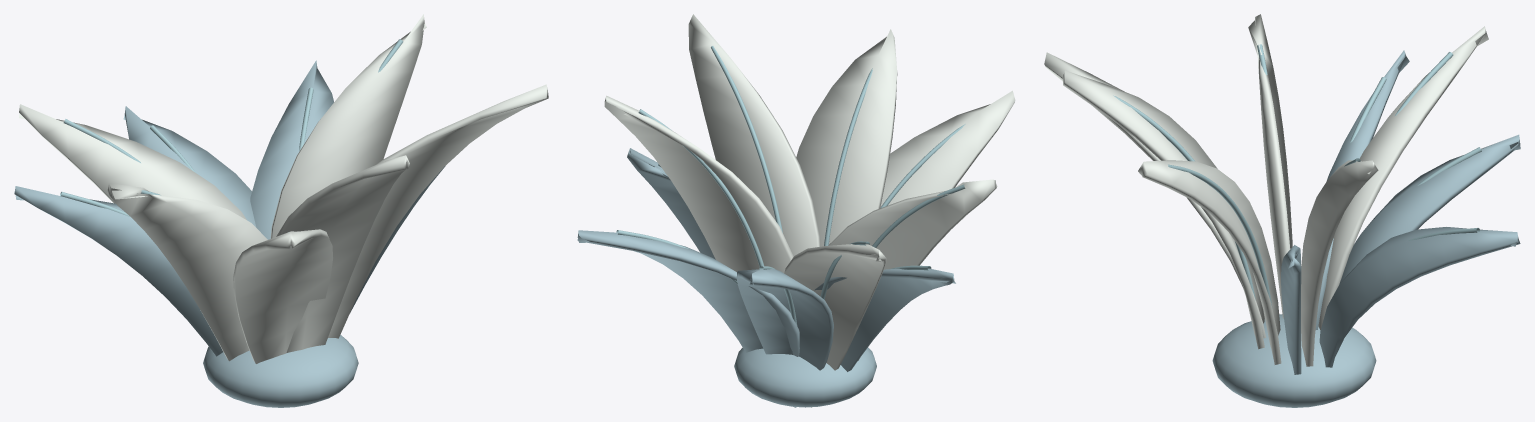
File: bio_mist_leaf_11_near.glb
The picture shows the model from 3 angles, left to right: view 1: azimuth 30°, elevation 25°; view 2: azimuth 150°, elevation 25°; view 3: azimuth 270°, elevation 25°; orthographic projection. The views are drawn at different scales.
Visible parts, largest first — view 1: Cupped condensate leaf.004, Cupped condensate leaf.008, Cupped condensate leaf.007, Cupped condensate leaf.002, Cupped condensate leaf.005, Cupped condensate leaf.001, Root rosette, Cupped condensate leaf.009, Cupped condensate leaf.003, Cupped condensate leaf.006; view 2: Cupped condensate leaf.002, Cupped condensate leaf.005, Cupped condensate leaf.008, Cupped condensate leaf.007, Cupped condensate leaf.004, Cupped condensate leaf.003, Cupped condensate leaf.001, Root rosette, Cupped condensate leaf.006, Cupped condensate leaf.009, Cupped condensate leaf, Central leaf rib.005 (+4 smaller); view 3: Root rosette, Cupped condensate leaf.003, Cupped condensate leaf.001, Cupped condensate leaf.005, Cupped condensate leaf.002, Cupped condensate leaf.006, Cupped condensate leaf.008, Cupped condensate leaf.004, Cupped condensate leaf.009, Cupped condensate leaf, Cupped condensate leaf.007, Central leaf rib.005 (+1 smaller).
Part boxes in pixels (x1,y1,x2,y2): Cupped condensate leaf.004: (107, 183, 267, 361); Cupped condensate leaf.008: (270, 14, 426, 238); Cupped condensate leaf.007: (233, 229, 332, 363); Cupped condensate leaf.002: (276, 155, 409, 352); Cupped condensate leaf.005: (328, 84, 548, 338); Cupped condensate leaf.001: (19, 104, 246, 219); Root rosette: (203, 335, 358, 407); Cupped condensate leaf.009: (14, 186, 223, 356); Cupped condensate leaf.003: (250, 60, 333, 239); Cupped condensate leaf.006: (123, 106, 256, 227); Cupped condensate leaf.002: (796, 29, 897, 246); Cupped condensate leaf.005: (688, 14, 820, 256); Cupped condensate leaf.008: (604, 95, 793, 273); Cupped condensate leaf.007: (880, 90, 1015, 207); Cupped condensate leaf.004: (828, 179, 997, 360); Cupped condensate leaf.003: (577, 230, 799, 356); Cupped condensate leaf.001: (784, 244, 886, 407); Root rosette: (734, 347, 876, 407); Cupped condensate leaf.006: (736, 268, 833, 407); Cupped condensate leaf.009: (814, 268, 955, 371); Cupped condensate leaf: (627, 148, 715, 259); Central leaf rib.005: (711, 46, 782, 232); Root rosette: (1212, 314, 1376, 407); Cupped condensate leaf.003: (1319, 227, 1520, 367); Cupped condensate leaf.001: (1318, 26, 1488, 330); Cupped condensate leaf.005: (1138, 160, 1281, 364); Cupped condensate leaf.002: (1063, 70, 1264, 349); Cupped condensate leaf.006: (1339, 134, 1520, 284); Cupped condensate leaf.008: (1301, 160, 1378, 366); Cupped condensate leaf.004: (1248, 14, 1292, 318); Cupped condensate leaf.009: (1315, 50, 1409, 329); Cupped condensate leaf: (1281, 245, 1301, 374); Cupped condensate leaf.007: (1044, 52, 1265, 338); Central leaf rib.005: (1168, 164, 1272, 307).
Size of the model in its own units: 1.83 by 1.34 by 1.74.
